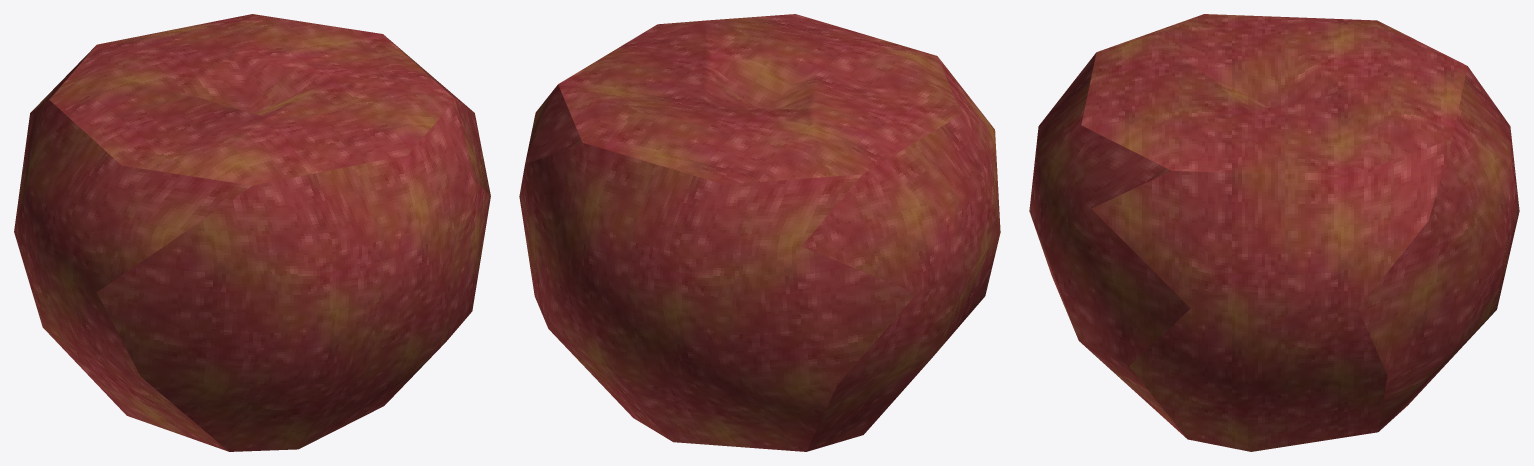
The model's file is apple.glb.
3 renders of one model, left to right at view 1: azimuth 30°, elevation 25°; view 2: azimuth 150°, elevation 25°; view 3: azimuth 270°, elevation 25°, orthographic.
Visible parts, largest first — view 1: apple.ms3d.mo; view 2: apple.ms3d.mo; view 3: apple.ms3d.mo.
Boxes of the visible parts, x1=… form: apple.ms3d.mo: x1=14, y1=14, x2=490, y2=451; apple.ms3d.mo: x1=519, y1=14, x2=1000, y2=451; apple.ms3d.mo: x1=1029, y1=14, x2=1519, y2=451.
Bounding box in the file's own units: 46.04 × 32.77 × 46.04.
Materials: 1 (1 with a texture image).
